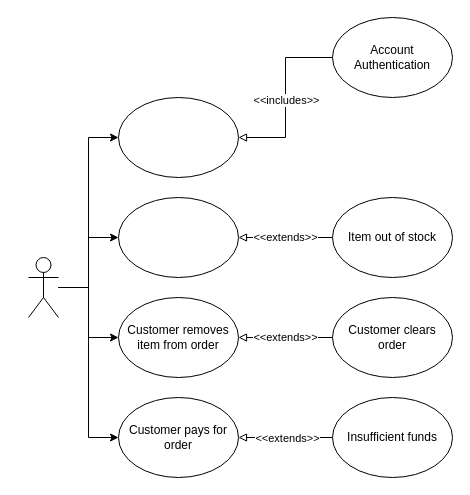
The diagram is 470 pixels wide and 495 high, and some of its shapes have lost their labels. Each missing label, with the centre of its shape:
"Customer" goes at point 43,287.
"Customer adds items to order" goes at point 178,237.
"Customer signs in" goes at point 178,137.
